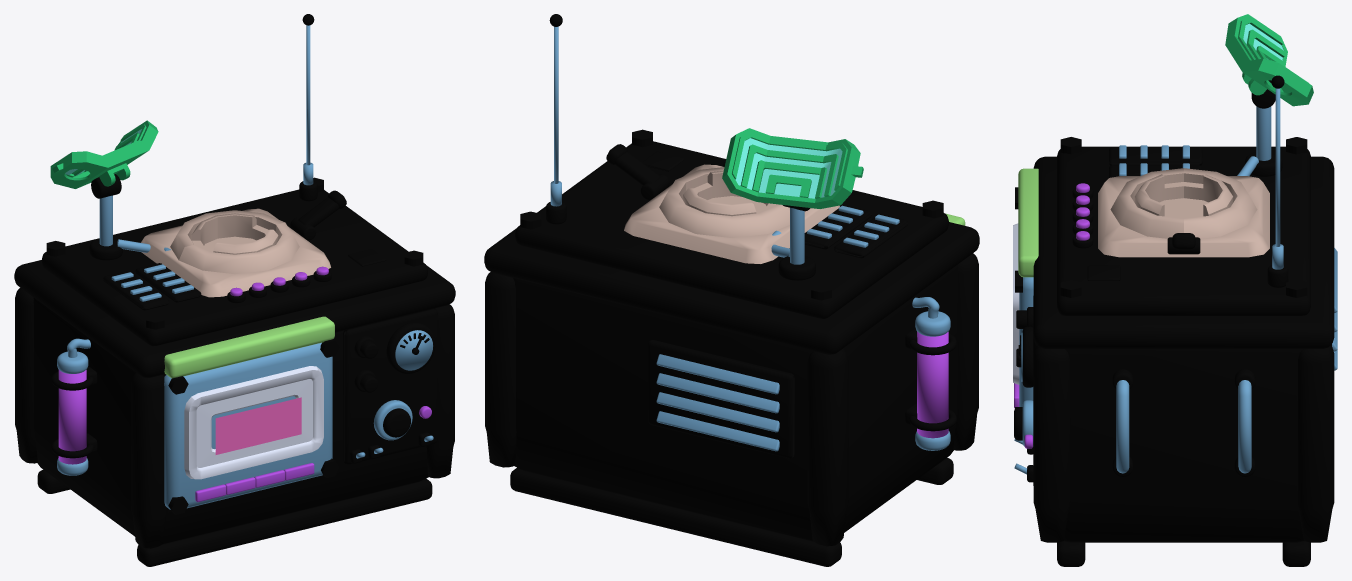
File: obj_pacificscrap_arcdevice.fbx
3 renders of one model, left to right at view 1: azimuth 30°, elevation 25°; view 2: azimuth 150°, elevation 25°; view 3: azimuth 270°, elevation 25°, orthographic. The views are drawn at different scales.
Visible parts, largest first — view 1: arcdevice_m00_containerbattery, arcdevice_m01_containergas, arcdevice_m04_connectionpoint, arcdevice_m05_connectionpoint2, arcdevice_m02_sm_caution, arcdevice_m03_sm_lamps, arcdevice_m07_radar, arcdevice_m06_screen; view 2: arcdevice_m00_containerbattery, arcdevice_m01_containergas, arcdevice_m04_connectionpoint, arcdevice_m07_radar, arcdevice_m03_sm_lamps, arcdevice_m08_radar_uvanim; view 3: arcdevice_m00_containerbattery, arcdevice_m04_connectionpoint, arcdevice_m01_containergas, arcdevice_m07_radar, arcdevice_m02_sm_caution, arcdevice_m03_sm_lamps, arcdevice_m05_connectionpoint2.
Boxes of the visible parts, x1,y1,x2,y2 form: arcdevice_m00_containerbattery: (14, 14, 455, 566); arcdevice_m01_containergas: (57, 25, 433, 509); arcdevice_m04_connectionpoint: (141, 208, 330, 297); arcdevice_m05_connectionpoint2: (184, 366, 323, 479); arcdevice_m02_sm_caution: (164, 316, 334, 378); arcdevice_m03_sm_lamps: (58, 266, 431, 502); arcdevice_m07_radar: (50, 120, 158, 188); arcdevice_m06_screen: (215, 397, 301, 454); arcdevice_m00_containerbattery: (484, 14, 979, 566); arcdevice_m01_containergas: (550, 26, 950, 451); arcdevice_m04_connectionpoint: (624, 164, 839, 263); arcdevice_m07_radar: (722, 128, 863, 208); arcdevice_m03_sm_lamps: (917, 331, 948, 438); arcdevice_m08_radar_uvanim: (735, 138, 842, 198); arcdevice_m00_containerbattery: (1014, 75, 1334, 566); arcdevice_m04_connectionpoint: (1098, 168, 1269, 257); arcdevice_m01_containergas: (1014, 88, 1337, 474); arcdevice_m07_radar: (1225, 14, 1313, 106); arcdevice_m02_sm_caution: (1018, 168, 1038, 277); arcdevice_m03_sm_lamps: (1014, 183, 1089, 448); arcdevice_m05_connectionpoint2: (1013, 223, 1019, 384).
Size of the model in its own units: 4.96 by 5.32 by 3.33.
